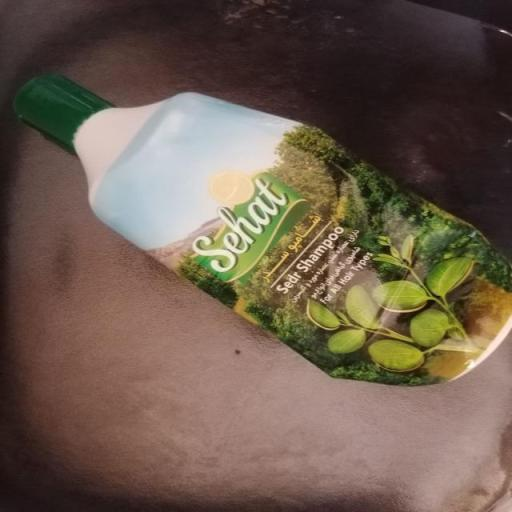plastic: (9, 68, 512, 388)
